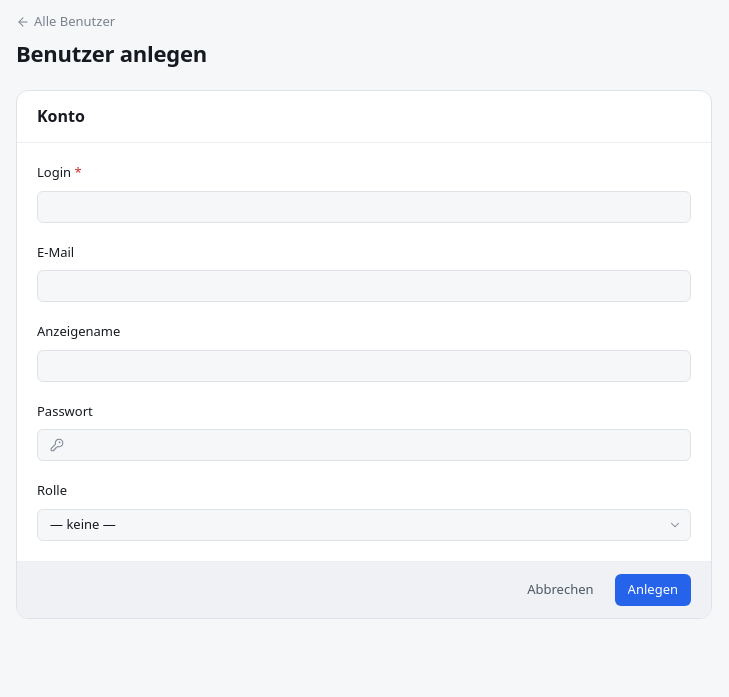
UserDetailView › aborts save when a before-save hook cancels
Type "op" into the field named "externalId" at (364, 207), box x1=50 y1=192 x2=678 y2=222
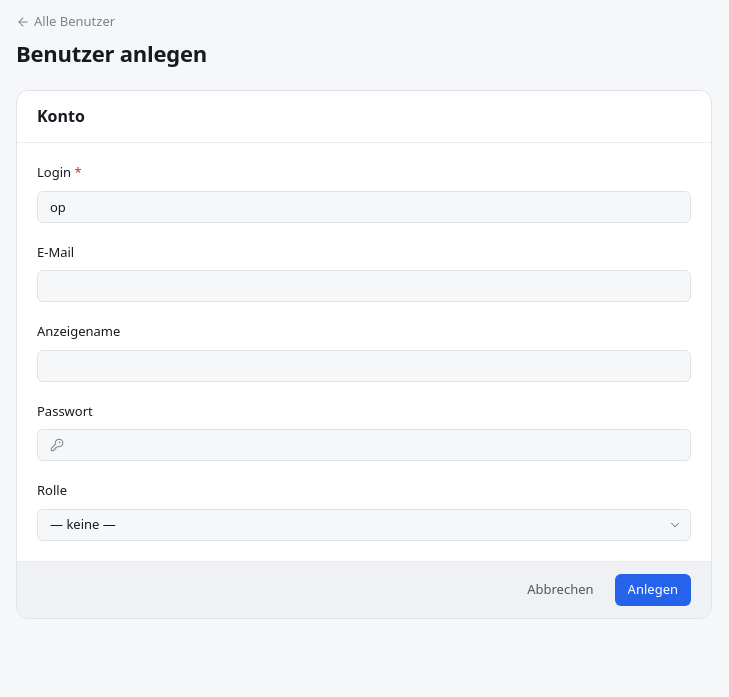
Type "secret" into the password field named "password" at (375, 445), box x1=72 y1=430 x2=678 y2=460
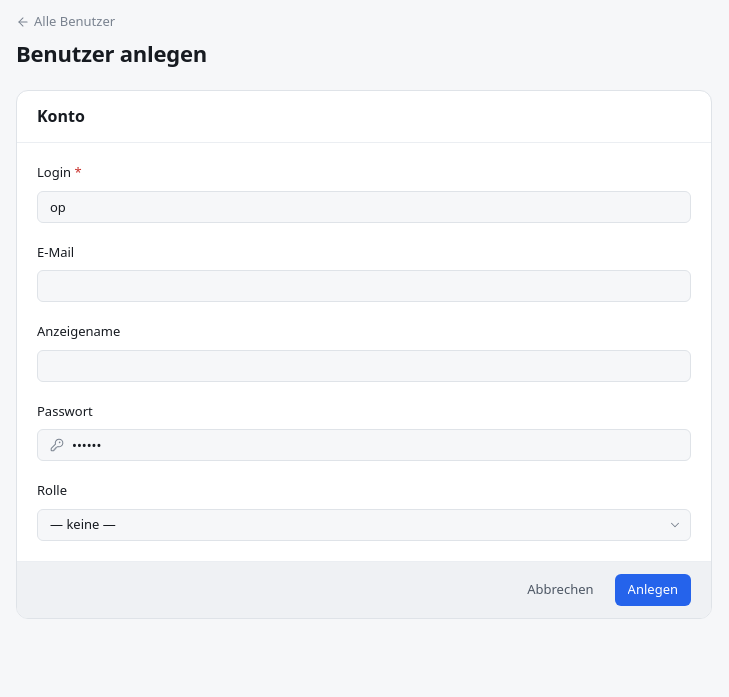
Submit the form
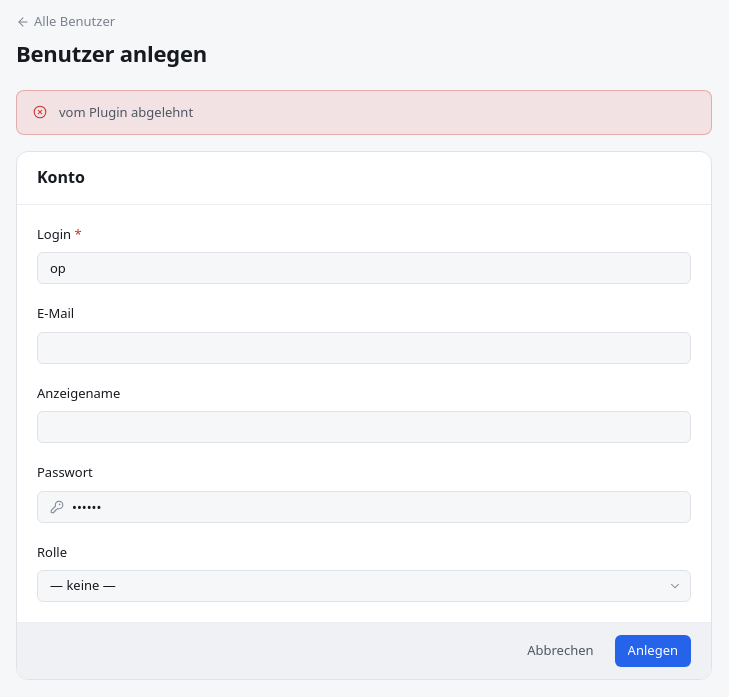
Check: the text "vom Plugin abgelehnt" is shown, box x1=59 y1=103 x2=193 y2=121
